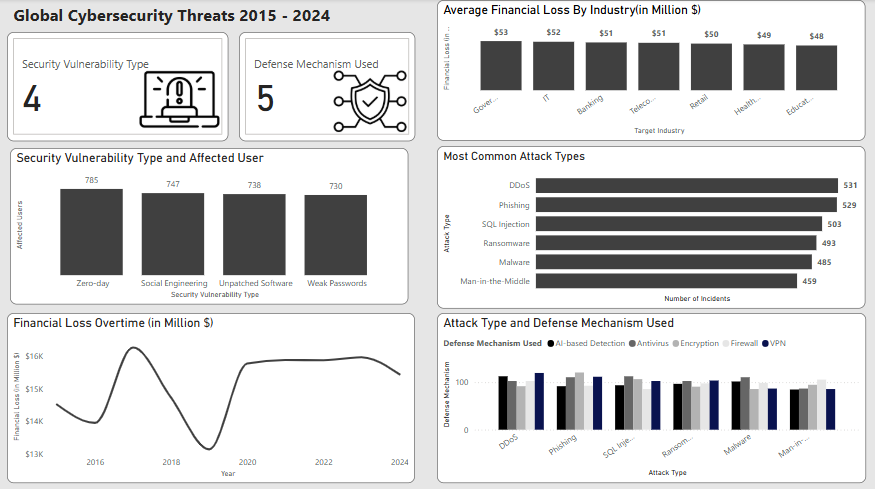

The page's visual inventory and layout, read from the dashboard file:
{"tool":"powerbi","page":{"name":"Page 2","canvas":[1280,720],"ordinal":1},"visuals":[{"type":"clusteredBarChart","title":"Most Common  Attack Types","fields":{"Category":["Global_Cybersecurity_Threats_2015-2024.Attack Type"],"Y":["CountNonNull(Global_Cybersecurity_Threats_2015-2024.Attack Type)"]},"box":[640,215.1,627.5,238.4],"z":0},{"type":"clusteredColumnChart","title":"Average Financial Loss By Industry(in Million $) ","fields":{"Y":["Avg(Global_Cybersecurity_Threats_2015-2024.Financial Loss (in Million $))"],"Category":["Global_Cybersecurity_Threats_2015-2024.Target Industry"]},"box":[640,1.8,627.5,206.2],"z":1000},{"type":"cardVisual","fields":{"Data":["Count(Global_Cybersecurity_Threats_2015-2024.Security Vulnerability Type)"]},"box":[10.8,48.4,324.5,159.6],"z":2000},{"type":"cardVisual","fields":{"Data":["Count(Global_Cybersecurity_Threats_2015-2024.Defense Mechanism Used)"]},"box":[349.6,48.4,258.2,159.6],"z":3000},{"type":"lineChart","title":"Financial Loss  Overtime (in Million $)","fields":{"Y":["Sum(Global_Cybersecurity_Threats_2015-2024.Financial Loss (in Million $))"],"Category":["Global_Cybersecurity_Threats_2015-2024.Year"]},"box":[10.8,458.9,597,249.2],"z":4000},{"type":"clusteredColumnChart","title":"Attack Type and Defense Mechanism Used","fields":{"Category":["Global_Cybersecurity_Threats_2015-2024.Attack Type"],"Y":["CountNonNull(Global_Cybersecurity_Threats_2015-2024.Defense Mechanism Used)"],"Series":["Global_Cybersecurity_Threats_2015-2024.Defense Mechanism Used"]},"box":[639.5,459.5,627.8,248.8],"z":5000},{"type":"clusteredColumnChart","title":"Security Vulnerability Type and Affected User","fields":{"Category":["Global_Cybersecurity_Threats_2015-2024.Security Vulnerability Type"],"Y":["CountNonNull(Global_Cybersecurity_Threats_2015-2024.Number of Affected Users)"]},"box":[14.3,218.7,582.6,229.5],"z":6000},{"type":"image","box":[174.1,83.4,177.1,127.3],"z":7000},{"type":"textbox","box":[14.6,1.5,493.2,46.8],"z":8000},{"type":"image","box":[455.1,89.3,172.7,121.5],"z":9000}]}

Visuals, with their boxes in screenshot pixels (x1, y1, x2, y2), scaled from the page's 1280x720 canvas onto the 875x489 screenshot:
"Most Common  Attack Types" clusteredBarChart: (438, 146, 866, 308)
"Average Financial Loss By Industry(in Million $) " clusteredColumnChart: (438, 1, 866, 141)
cardVisual - Count(Global_Cybersecurity_Threats_2015-2024.Security Vulnerability Type): (7, 33, 229, 141)
cardVisual - Count(Global_Cybersecurity_Threats_2015-2024.Defense Mechanism Used): (239, 33, 415, 141)
"Financial Loss  Overtime (in Million $)" lineChart: (7, 312, 415, 481)
"Attack Type and Defense Mechanism Used" clusteredColumnChart: (437, 312, 866, 481)
"Security Vulnerability Type and Affected User" clusteredColumnChart: (10, 149, 408, 304)
image: (119, 57, 240, 143)
textbox: (10, 1, 347, 33)
image: (311, 61, 429, 143)
